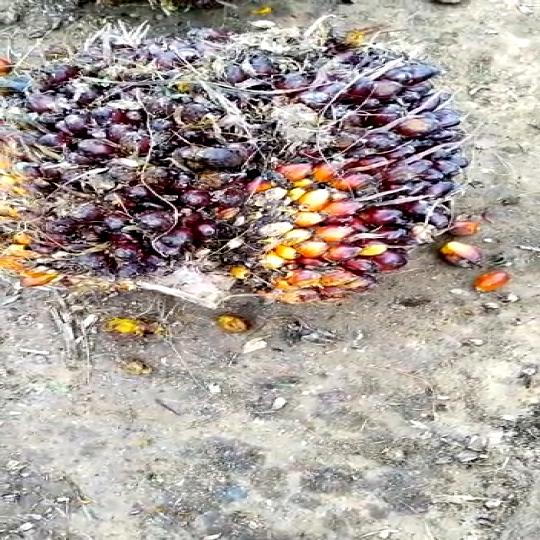mentah: (0, 29, 481, 309)
